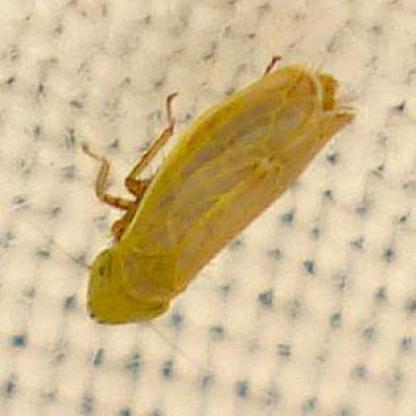green-leafhopper: (85, 70, 351, 330)
